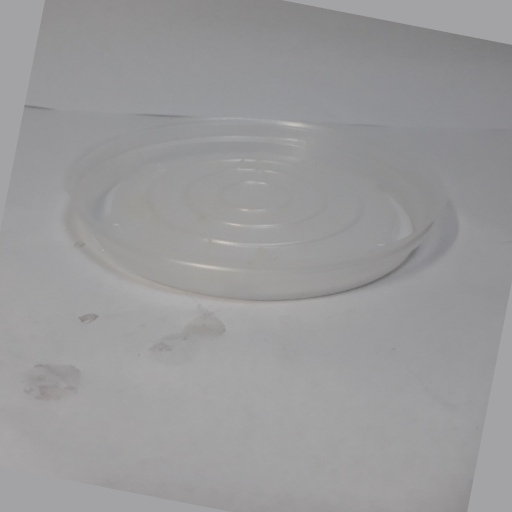Plastic_5: (62, 115, 452, 301)
